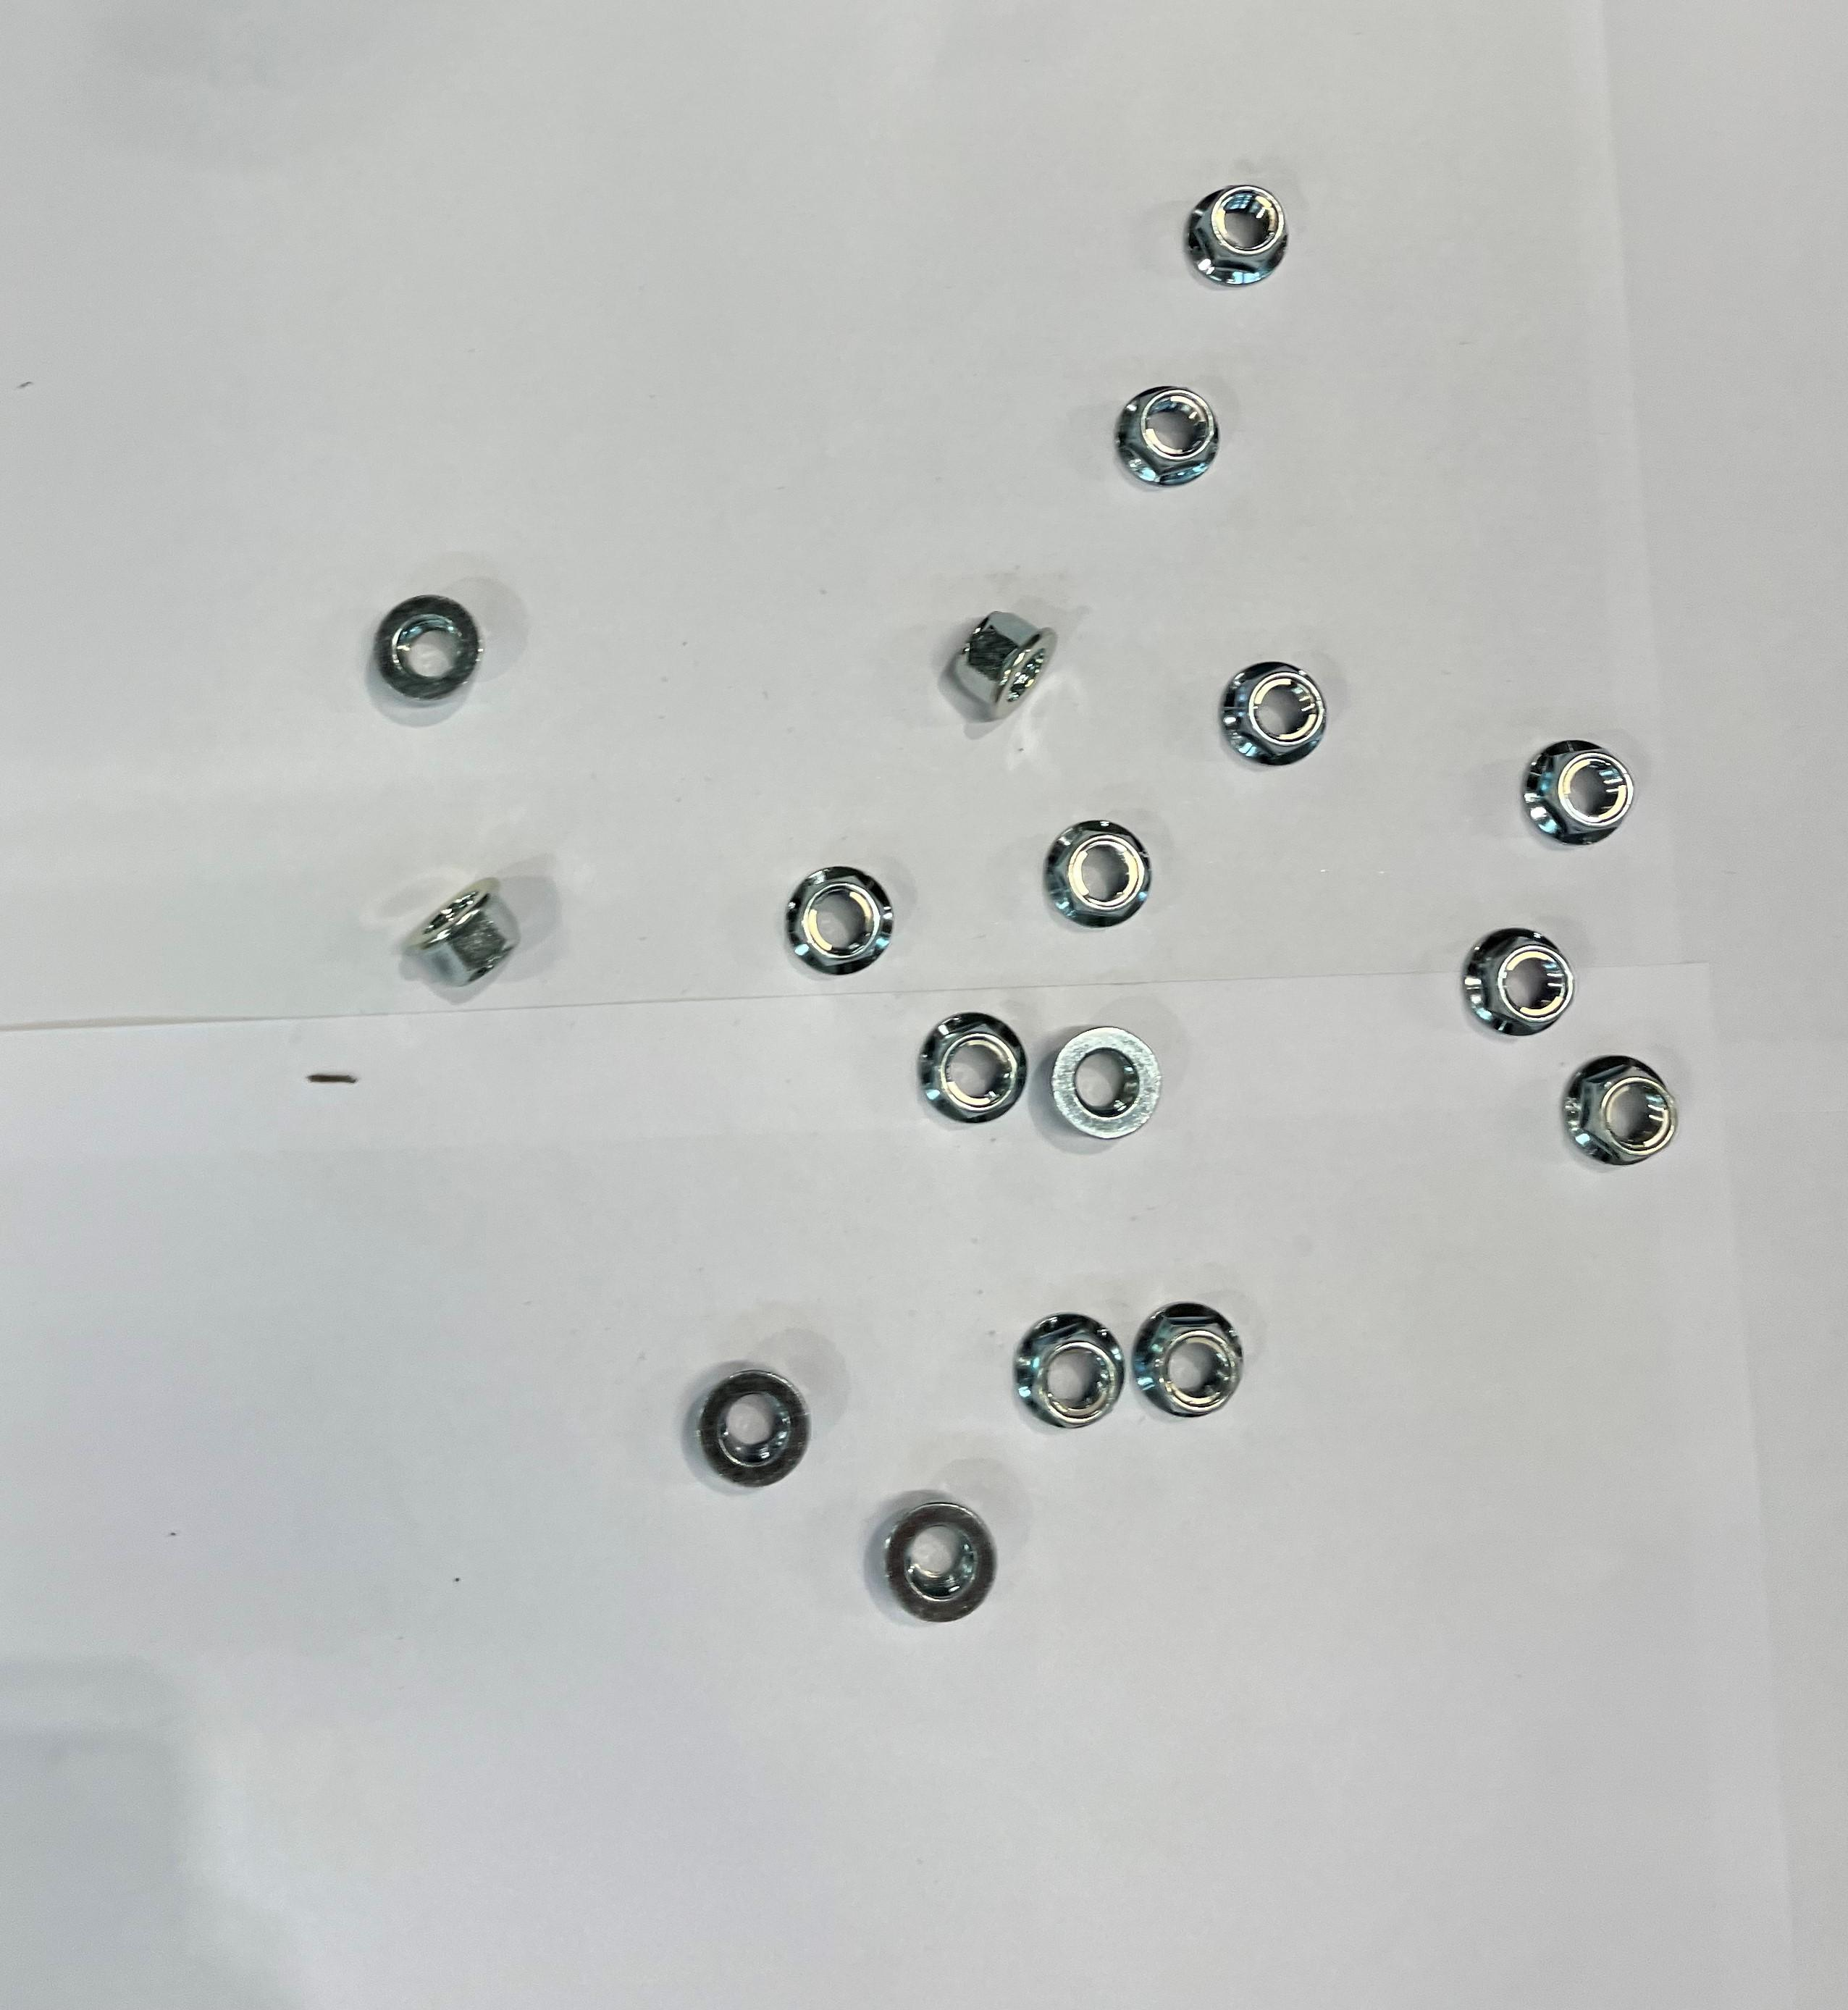Type B: (1456, 923, 1578, 1044), (885, 1502, 997, 1625), (1137, 1299, 1244, 1422), (701, 1369, 808, 1492), (1568, 1047, 1671, 1171), (406, 879, 520, 991), (371, 594, 485, 704), (1016, 1313, 1123, 1429), (1053, 1024, 1161, 1136), (1519, 742, 1631, 851), (786, 865, 895, 975), (1046, 823, 1158, 930), (921, 1012, 1028, 1124), (949, 613, 1058, 721), (1221, 660, 1326, 770), (1119, 376, 1217, 492), (1195, 180, 1287, 285)
